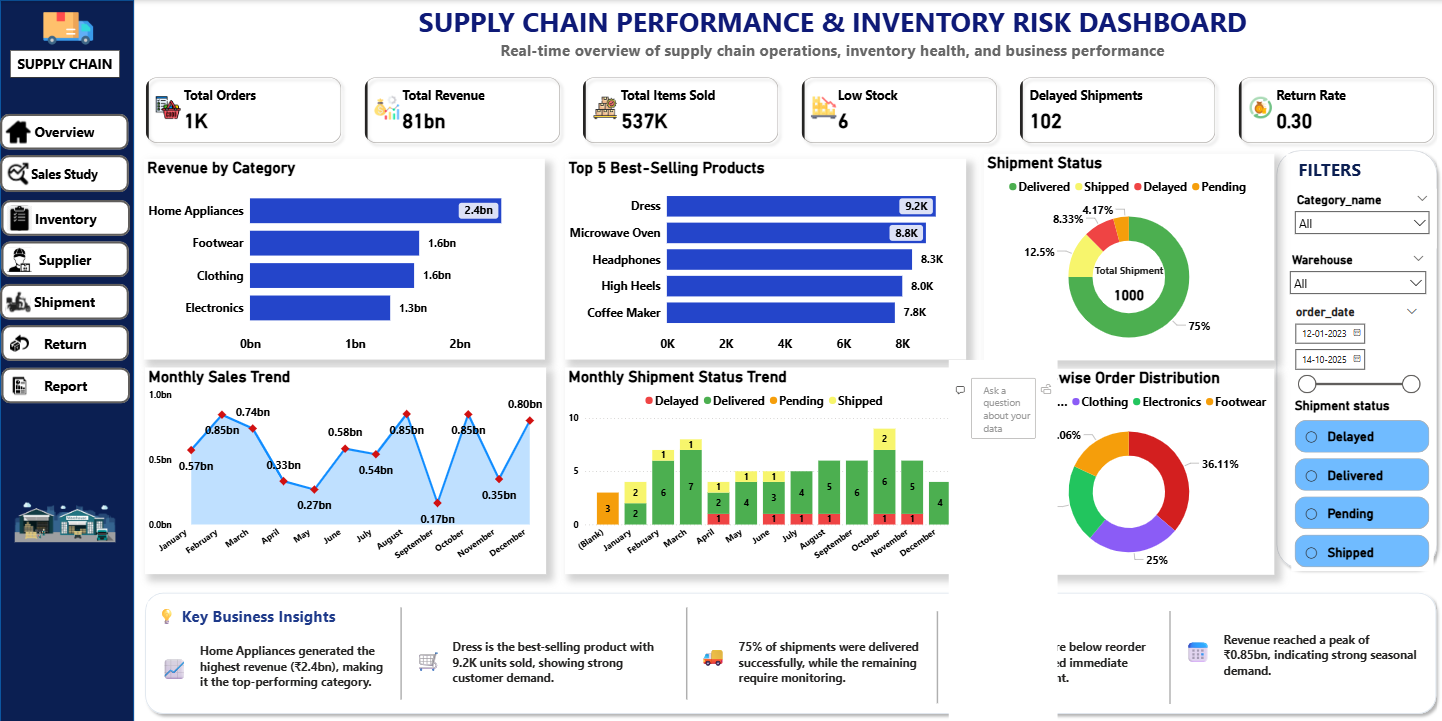

Layout of this report page (visuals, bound fields, positions):
{"tool":"powerbi","page":{"name":"Page 1","canvas":[2000,1000],"ordinal":0},"visuals":[{"type":"cardVisual","fields":{"Data":["Sales_Orders_Items.Total Orders","Sales_Orders_Items.Total Revenue","Sales_Orders_Items.Total Items Sold","Inventory_Table.Low Stock","Shipment_Table.Delayed Shipments1","Returns_Table.Return Rate"]},"box":[185.3,89,1815,125.4],"z":0},{"type":"clusteredBarChart","title":"Revenue by Category","fields":{"Category":["Categories_Table.Category_name"],"Y":["Sales_Orders_Items.Total Revenue"]},"box":[198,219.8,554.1,278],"z":1000},{"type":"shape","box":[0,0,185.3,999.3],"z":2000},{"type":"actionButton","box":[0,156.7,177.9,49.8],"z":3000},{"type":"actionButton","box":[1.6,275.9,178.1,49.7],"z":4000},{"type":"actionButton","box":[1.6,449.2,176.5,49.7],"z":5000},{"type":"actionButton","box":[0,215,178.1,51.3],"z":6000},{"type":"actionButton","box":[1.6,333.7,176.5,49.7],"z":7000},{"type":"actionButton","box":[0,391.4,178.1,49.7],"z":8000},{"type":"actionButton","box":[1.6,508.5,178.1,49.7],"z":9000},{"type":"image","box":[19.9,0,146.8,78.4],"z":10000},{"type":"textbox","box":[13.7,69.7,151.8,38.6],"z":11000},{"type":"image","box":[16,668.9,149.2,102.7],"z":12000},{"type":"textbox","box":[335.3,0,1631.4,88.2],"z":13000},{"type":"shape","box":[1755.4,198.7,240.2,596.1],"z":14000},{"type":"textbox","box":[1777.7,211.7,120.5,47.5],"z":15000},{"type":"slicer","fields":{"Values":["Categories_Table.Category_name"]},"box":[1779.5,261,206.2,82.1],"z":16000},{"type":"slicer","fields":{"Values":["Warehouse_Table.location"]},"box":[1772.2,343.1,208.1,82.1],"z":17000},{"type":"slicer","fields":{"Values":["Sales_Orders_Items.order_date"]},"box":[1777.7,416.1,193.5,157],"z":18000},{"type":"advancedSlicerVisual","title":"Shipment status","fields":{"Values":["Shipment_Table.status"]},"box":[1784.7,549.4,197,240.2],"z":19000},{"type":"clusteredBarChart","title":"Top 5 Best-Selling Products","fields":{"Category":["Products_Table.product_name"],"Y":["Sales_Orders_Items.Total Items Sold"]},"box":[781.3,219.8,554.1,278],"z":20000},{"type":"donutChart","title":"Shipment Status","fields":{"Category":["Shipment_Table.status"],"Y":["CountNonNull(Shipment_Table.shipment_id)"]},"box":[1359,212.6,401.5,285.2],"z":21000},{"type":"textbox","box":[1500.7,359.7,118.1,30.9],"z":22000},{"type":"card","fields":{"Values":["Shipment_Table.Total Shipments"]},"box":[1533.4,390.6,52.7,34.5],"z":23000},{"type":"lineChart","title":"Monthly Sales Trend","fields":{"Category":["Sales_Orders_Items.order_date.Variation.Date Hierarchy.Month"],"Y":["Sales_Orders_Items.Total Revenue"]},"box":[199.9,508.7,554.1,285.2],"z":24000},{"type":"columnChart","title":"Monthly Shipment Status Trend","fields":{"Y":["CountNonNull(Shipment_Table.shipment_id)"],"Series":["Shipment_Table.status"],"Category":["Shipment_Table.shipped_date.Variation.Date Hierarchy.Month"]},"box":[781.3,508.7,554.1,285.2],"z":25000},{"type":"donutChart","title":"Category-wise Order Distribution","fields":{"Category":["Categories_Table.Category_name"],"Y":["CountNonNull(Sales_Orders_Items.soi_id)"]},"box":[1359.7,509.2,401.5,284.7],"z":26000},{"type":"shape","box":[192.6,810.3,1802.3,185.3],"z":27000},{"type":"textbox","box":[204.4,830.4,271.9,42],"z":28000},{"type":"shape","box":[541.4,839.4,27.3,127.2],"z":29000},{"type":"textbox","box":[270.7,883,270.7,89],"z":30000},{"type":"textbox","box":[619.6,877.5,298,94.5],"z":31000},{"type":"textbox","box":[1015.6,877.5,268.9,94.5],"z":32000},{"type":"shape","box":[935.7,839.4,25.4,127.2],"z":33000},{"type":"shape","box":[1280.9,844.8,30.9,127.2],"z":34000},{"type":"textbox","box":[1359,877.5,241.6,94.5],"z":35000},{"type":"textbox","box":[1686.3,867.3,279.9,81.2],"z":36000},{"type":"shape","box":[1601.6,844.9,31.1,127.9],"z":37000},{"type":"textbox","box":[217.7,900.1,53.6,48.4],"z":38000},{"type":"textbox","box":[568.4,889.8,51.8,58.7],"z":39000},{"type":"textbox","box":[962.3,882.9,53.6,58.7],"z":40000},{"type":"textbox","box":[1311.3,882.9,48.4,58.7],"z":41000},{"type":"textbox","box":[1632.7,877.7,53.6,55.3],"z":42000},{"type":"qnaVisual","box":[1311.8,497.8,150,501.5],"z":43000}]}

Visuals, with their boxes in screenshot pixels (x1, y1, x2, y2), scaled from the page's 2000x1000 canvas onto the 1442x721 screenshot:
cardVisual - Sales_Orders_Items.Total Orders x Sales_Orders_Items.Total Revenue: BBox(134, 64, 1441, 155)
"Revenue by Category" clusteredBarChart: BBox(143, 158, 542, 359)
shape: BBox(0, 0, 134, 720)
actionButton: BBox(0, 113, 128, 149)
actionButton: BBox(1, 199, 130, 235)
actionButton: BBox(1, 324, 128, 360)
actionButton: BBox(0, 155, 128, 192)
actionButton: BBox(1, 241, 128, 276)
actionButton: BBox(0, 282, 128, 318)
actionButton: BBox(1, 367, 130, 402)
image: BBox(14, 0, 120, 57)
textbox: BBox(10, 50, 119, 78)
image: BBox(12, 482, 119, 556)
textbox: BBox(242, 0, 1418, 64)
shape: BBox(1266, 143, 1439, 573)
textbox: BBox(1282, 153, 1369, 187)
slicer - Categories_Table.Category_name: BBox(1283, 188, 1432, 247)
slicer - Warehouse_Table.location: BBox(1278, 247, 1428, 307)
slicer - Sales_Orders_Items.order_date: BBox(1282, 300, 1421, 413)
"Shipment status" advancedSlicerVisual: BBox(1287, 396, 1429, 569)
"Top 5 Best-Selling Products" clusteredBarChart: BBox(563, 158, 963, 359)
"Shipment Status" donutChart: BBox(980, 153, 1269, 359)
textbox: BBox(1082, 259, 1167, 282)
card - Shipment_Table.Total Shipments: BBox(1106, 282, 1144, 306)
"Monthly Sales Trend" lineChart: BBox(144, 367, 544, 572)
"Monthly Shipment Status Trend" columnChart: BBox(563, 367, 963, 572)
"Category-wise Order Distribution" donutChart: BBox(980, 367, 1270, 572)
shape: BBox(139, 584, 1438, 718)
textbox: BBox(147, 599, 343, 629)
shape: BBox(390, 605, 410, 697)
textbox: BBox(195, 637, 390, 701)
textbox: BBox(447, 633, 662, 701)
textbox: BBox(732, 633, 926, 701)
shape: BBox(675, 605, 693, 697)
shape: BBox(924, 609, 946, 701)
textbox: BBox(980, 633, 1154, 701)
textbox: BBox(1216, 625, 1418, 684)
shape: BBox(1155, 609, 1177, 701)
textbox: BBox(157, 649, 196, 684)
textbox: BBox(410, 642, 447, 684)
textbox: BBox(694, 637, 732, 679)
textbox: BBox(945, 637, 980, 679)
textbox: BBox(1177, 633, 1216, 673)
qnaVisual: BBox(946, 359, 1054, 720)
